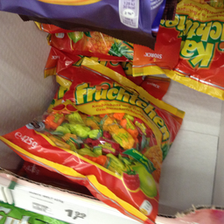candy: (13, 72, 167, 214)
